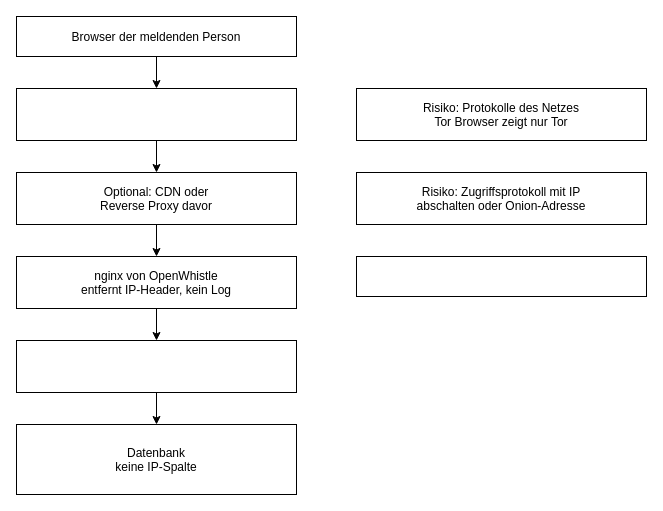
Some shapes in this 663 by 511 pixel diagram are drawn without their labels. The shapes that lost their labels are listed below. From the top down, each one's centre as x and y in pixels, then its label:
pixel 156 114: Netz WLAN, Firmen-VPN, Provider
pixel 501 276: sieht die IP, speichert sie nicht
pixel 156 366: App verwirft die Adresse
